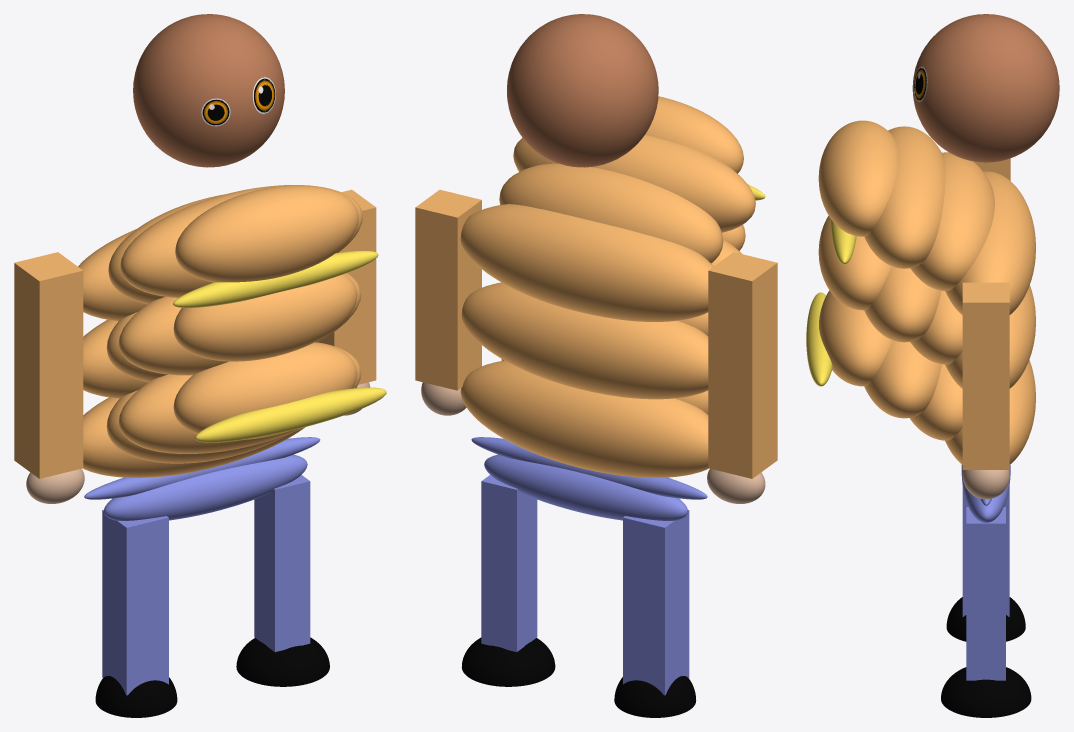
File: Jesse costume 2.glb
3 renders of one model, left to right at view 1: azimuth 30°, elevation 25°; view 2: azimuth 150°, elevation 25°; view 3: azimuth 270°, elevation 25°, orthographic. The views are drawn at different scales.
Visible parts, largest first — view 1: node_id52, node_id42, node_id26, node_id36, node_id18, node_id10, node_id38, node_id34, node_id24, node_id8, node_id30, node_id16 (+12 smaller); view 2: node_id20, node_id52, node_id4, node_id12, node_id42, node_id36, node_id40, node_id22, node_id38, node_id24, node_id34, node_id26 (+5 smaller); view 3: node_id52, node_id40, node_id24, node_id26, node_id38, node_id22, node_id20, node_id10, node_id8, node_id16, node_id18, node_id50 (+11 smaller).
Part boxes in pixels (box(x1,y1,x2,y2)): node_id52: box(133, 14, 284, 167); node_id42: box(14, 252, 83, 478); node_id26: box(175, 185, 358, 282); node_id36: box(102, 509, 168, 695); node_id18: box(173, 274, 357, 361); node_id10: box(173, 342, 357, 439); node_id38: box(254, 475, 310, 651); node_id34: box(103, 454, 307, 520); node_id24: box(120, 185, 362, 297); node_id8: box(118, 342, 361, 453); node_id30: box(195, 387, 386, 442); node_id16: box(118, 273, 361, 375); node_id20: box(460, 204, 713, 321); node_id52: box(507, 14, 658, 167); node_id4: box(460, 360, 708, 477); node_id12: box(461, 282, 708, 399); node_id42: box(708, 252, 777, 478); node_id36: box(623, 510, 689, 695); node_id40: box(415, 189, 481, 390); node_id22: box(499, 163, 723, 263); node_id38: box(481, 475, 537, 651); node_id24: box(513, 135, 755, 232); node_id34: box(484, 454, 687, 520); node_id26: box(645, 96, 743, 173); node_id52: box(912, 14, 1059, 162); node_id40: box(962, 282, 1009, 469); node_id24: box(864, 126, 945, 268); node_id26: box(818, 120, 899, 236); node_id38: box(966, 507, 1005, 680); node_id22: box(910, 152, 994, 290); node_id20: box(945, 171, 1035, 314); node_id10: box(819, 290, 892, 386); node_id8: box(864, 340, 941, 418); node_id16: box(864, 266, 941, 342); node_id18: box(818, 215, 891, 310); node_id50: box(941, 667, 1031, 717).
Bounding box in the file's own units: 0.2748 × 0.512 × 0.1829.
25 materials, 1 textured.
